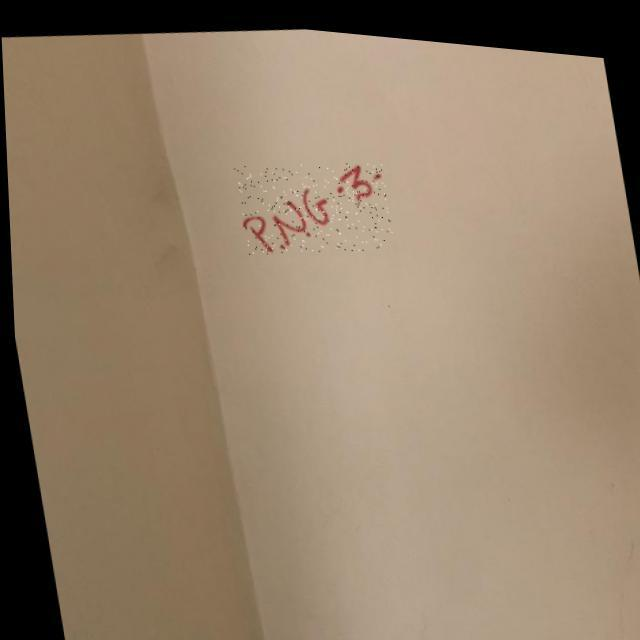-: (230, 142, 394, 260)
